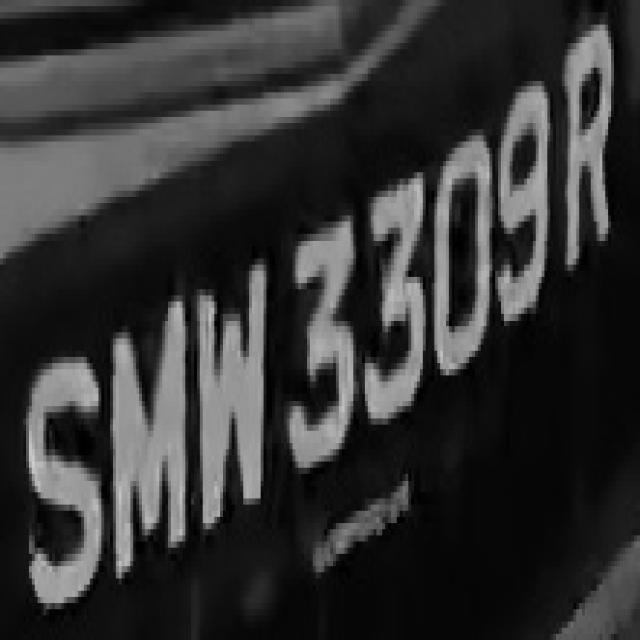0: (432, 111, 492, 394)
3: (281, 191, 353, 486), (359, 160, 434, 425)
9: (489, 80, 559, 332)
M: (107, 295, 185, 597)
R: (562, 24, 620, 270)
S: (18, 338, 104, 634)
W: (186, 240, 266, 529)
